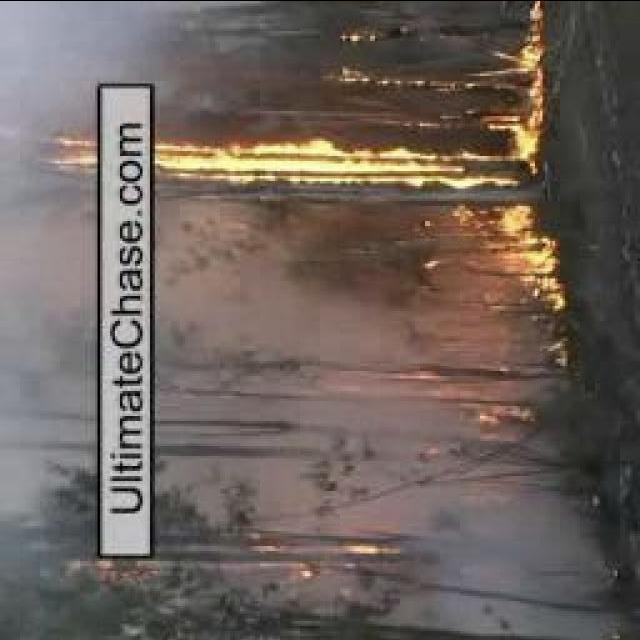Fire: (41, 140, 539, 182), (498, 216, 564, 294), (496, 9, 546, 78)
